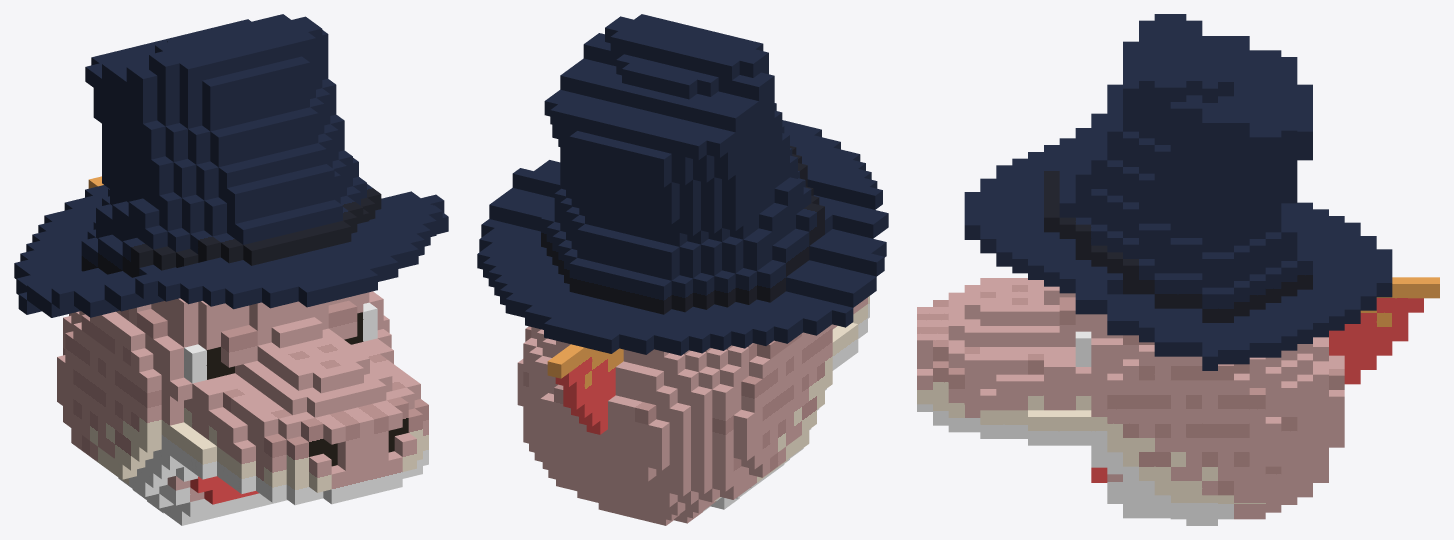
Rendered from top hat_red glasses.gltf.
3 renders of one model, left to right at view 1: azimuth 30°, elevation 25°; view 2: azimuth 150°, elevation 25°; view 3: azimuth 270°, elevation 25°, orthographic. The views are drawn at different scales.
Parts seen in each view (by area): view 1: C54_H_TopH_RedG_RBSpec_SkyD_LazerL-Mesh; view 2: C54_H_TopH_RedG_RBSpec_SkyD_LazerL-Mesh; view 3: C54_H_TopH_RedG_RBSpec_SkyD_LazerL-Mesh.
Part boxes in pixels (<box>): C54_H_TopH_RedG_RBSpec_SkyD_LazerL-Mesh: <box>14,14,448,525</box>; C54_H_TopH_RedG_RBSpec_SkyD_LazerL-Mesh: <box>477,14,888,525</box>; C54_H_TopH_RedG_RBSpec_SkyD_LazerL-Mesh: <box>917,14,1439,525</box>.
Size of the model in its own units: 27 by 31 by 33.
Materials: 1 (1 with a texture image).
